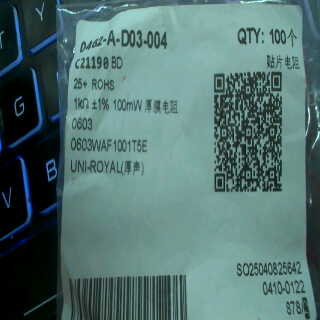1kR: (72, 93, 90, 114)
